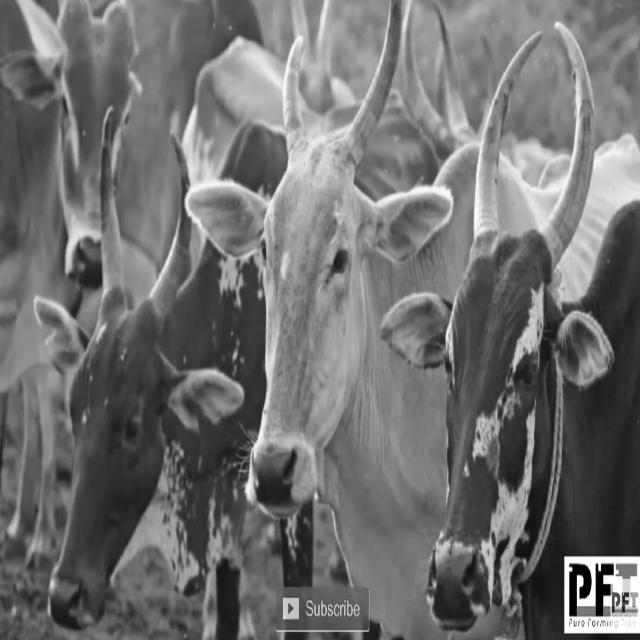Cow: (380, 18, 639, 637)
